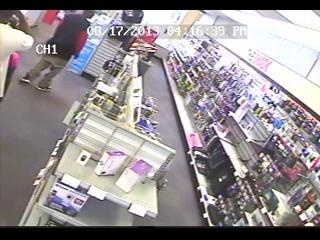Normal: (18, 12, 92, 92), (1, 17, 34, 103)
